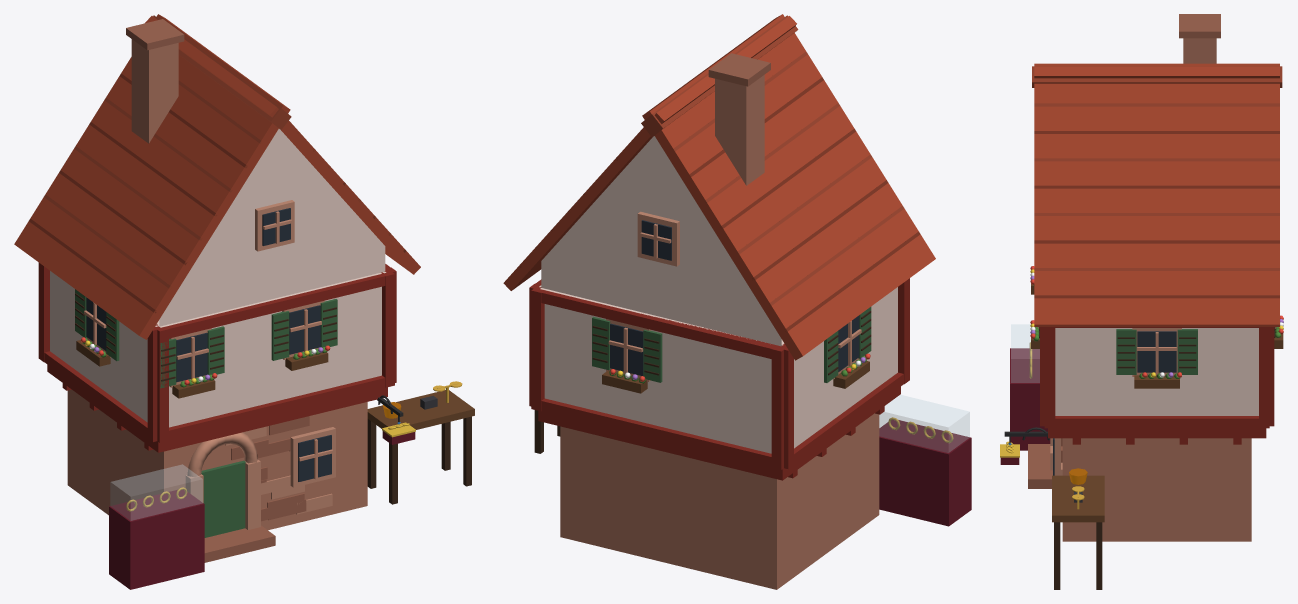
File: goldschmied.glb
3 renders of one model, left to right at view 1: azimuth 30°, elevation 25°; view 2: azimuth 150°, elevation 25°; view 3: azimuth 270°, elevation 25°, orthographic. The views are drawn at different scales.
Bounding box in the file's own units: 3.95 × 4.73 × 2.7.
